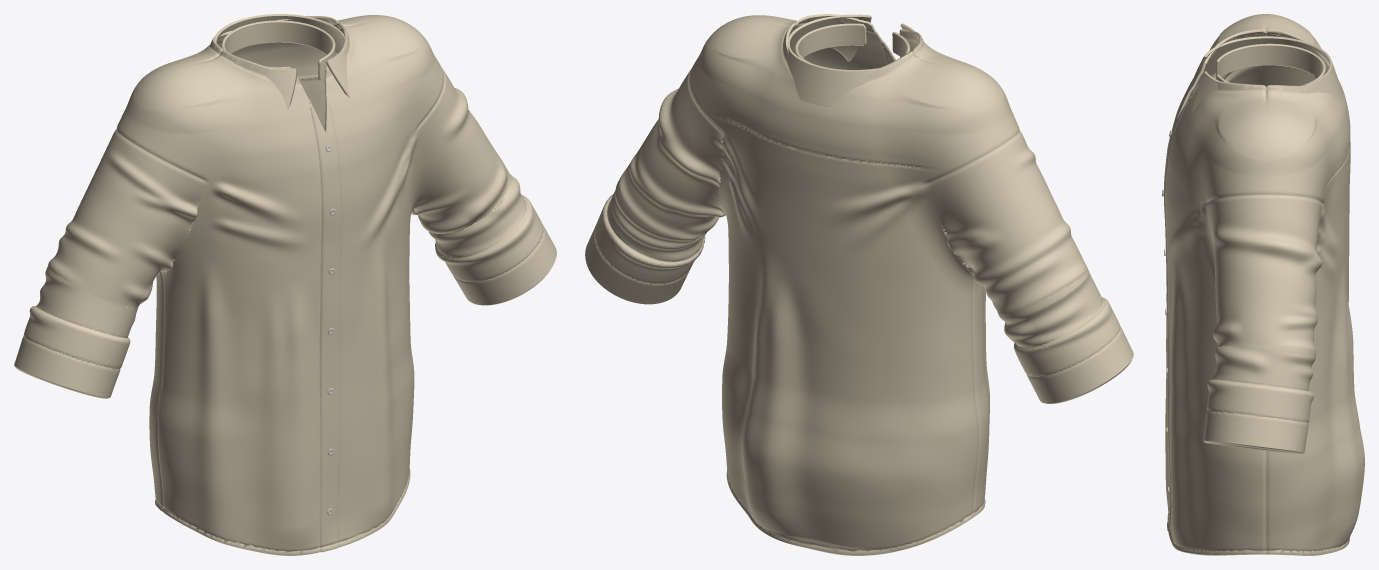
Rendered from 04_camisa_lino.glb.
The picture shows the model from 3 angles, left to right: view 1: azimuth 30°, elevation 25°; view 2: azimuth 150°, elevation 25°; view 3: azimuth 270°, elevation 25°; orthographic projection. The views are drawn at different scales.
Parts seen in each view (by area): view 1: body; view 2: body; view 3: body.
Part boxes in pixels (x1,y1,x2,y2): body: (14,14,556,555); body: (585,14,1133,555); body: (1163,14,1364,555).
Size of the model in its own units: 0.8995 by 0.7798 by 0.3045.
